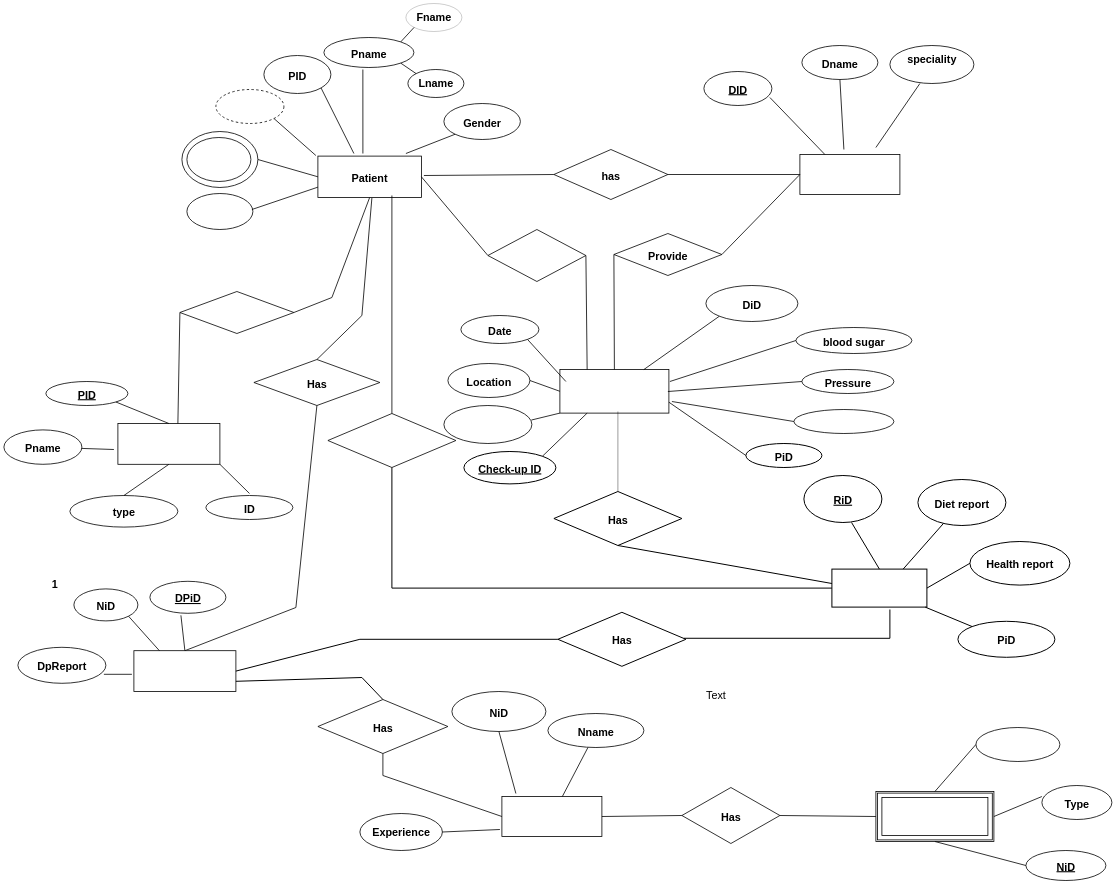
Image size: 1116x884. Some labels were removed from this diagram. The shapes that lost their labels are listed below. From the top down, each one's centre as x and y in pixels, then its label:
[249,106]: Age
[218,159]: phone
[849,174]: Doctor
[219,211]: DOB
[536,255]: Check
[236,312]: Pay
[614,391]: Health check-up
[391,440]: Relationship
[843,421]: cholesterol
[168,444]: Payment
[879,588]: Report
[184,671]: Diet Plan
[1017,744]: MPname
[551,816]: Nutritionist
[934,816]: Meal Plan
